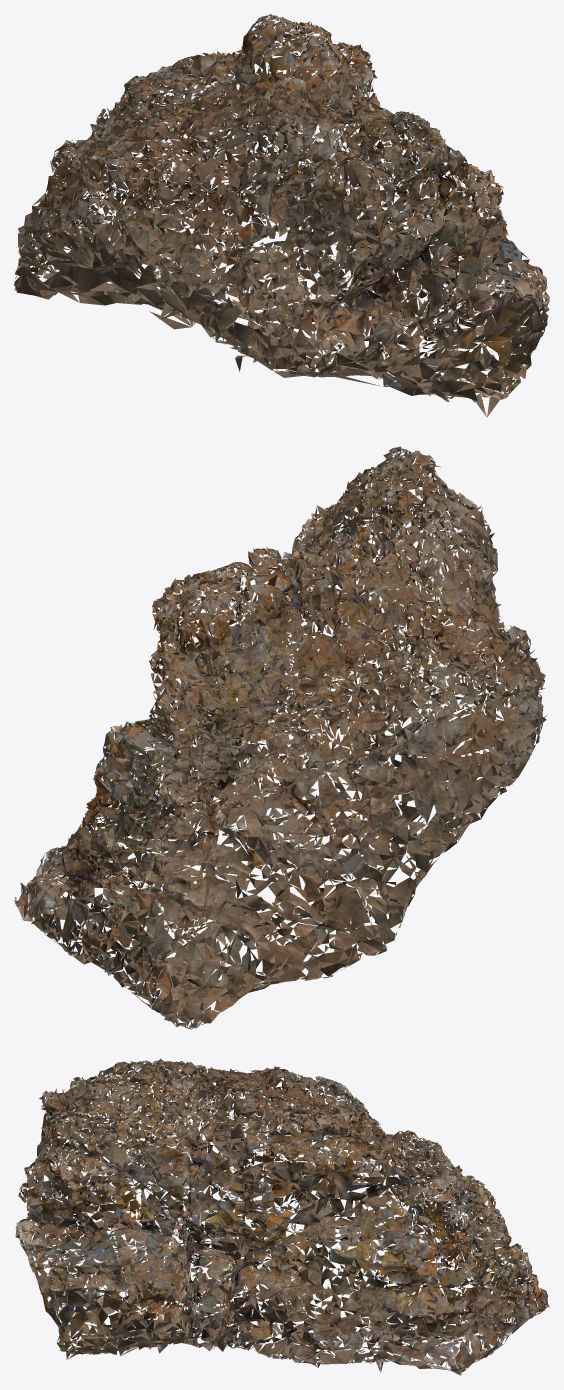
File: boulder_01_0.glb
3 views of the same model, one above another, from view 1: azimuth 30°, elevation 25°; view 2: azimuth 150°, elevation 25°; view 3: azimuth 270°, elevation 25° (orthographic). The views are drawn at different scales.
Parts seen in each view (by area): view 1: boulder_01; view 2: boulder_01; view 3: boulder_01.
Part boxes in pixels (x1,y1,x2,y2): boulder_01: (14,14,549,417); boulder_01: (14,446,547,1029); boulder_01: (15,1058,549,1375).
Bounding box in the file's own units: 1.28 × 1.01 × 1.84.
1 material, 1 textured.
